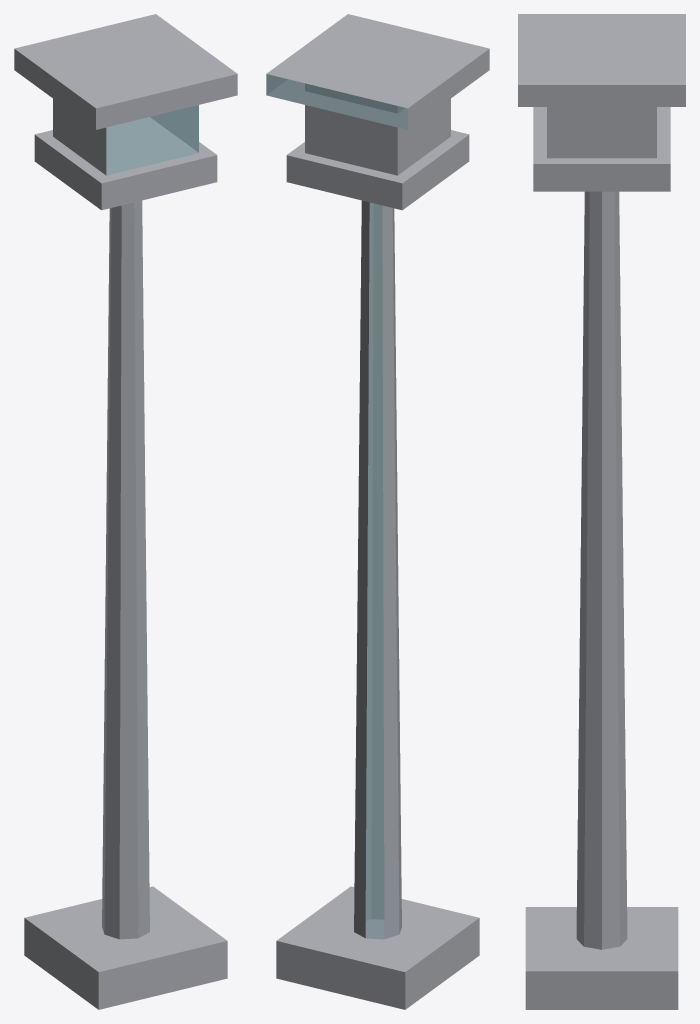
File: PROP-lamp-00.glb
The picture shows the model from 3 angles, left to right: view 1: azimuth 30°, elevation 25°; view 2: azimuth 150°, elevation 25°; view 3: azimuth 270°, elevation 25°; orthographic projection. The views are drawn at different scales.
Visible parts, largest first — view 1: PROP-lamp-00; view 2: PROP-lamp-00; view 3: PROP-lamp-00.
Part boxes in pixels (left/top/right/bottom): PROP-lamp-00: left=14, top=14, right=237, bottom=1009; PROP-lamp-00: left=266, top=14, right=489, bottom=1009; PROP-lamp-00: left=518, top=14, right=685, bottom=1009.
Size of the model in its own units: 0.55 by 3.36 by 0.55.
